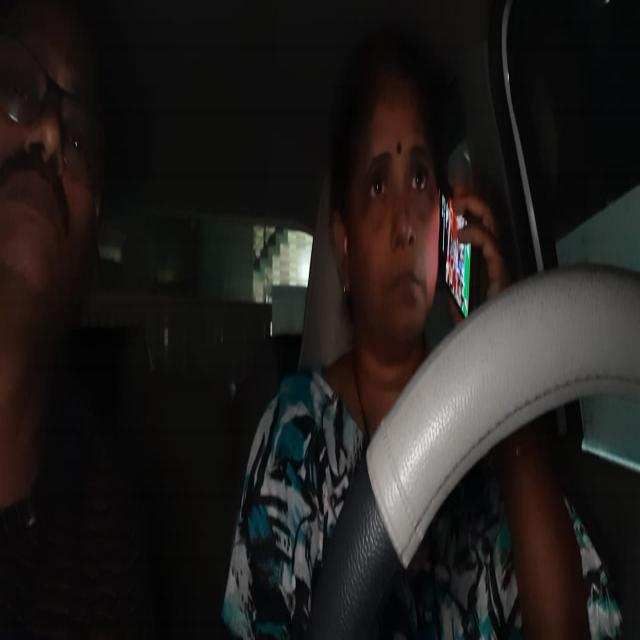mobile: (438, 188, 476, 326)
person: (4, 14, 101, 309), (344, 89, 436, 320)
